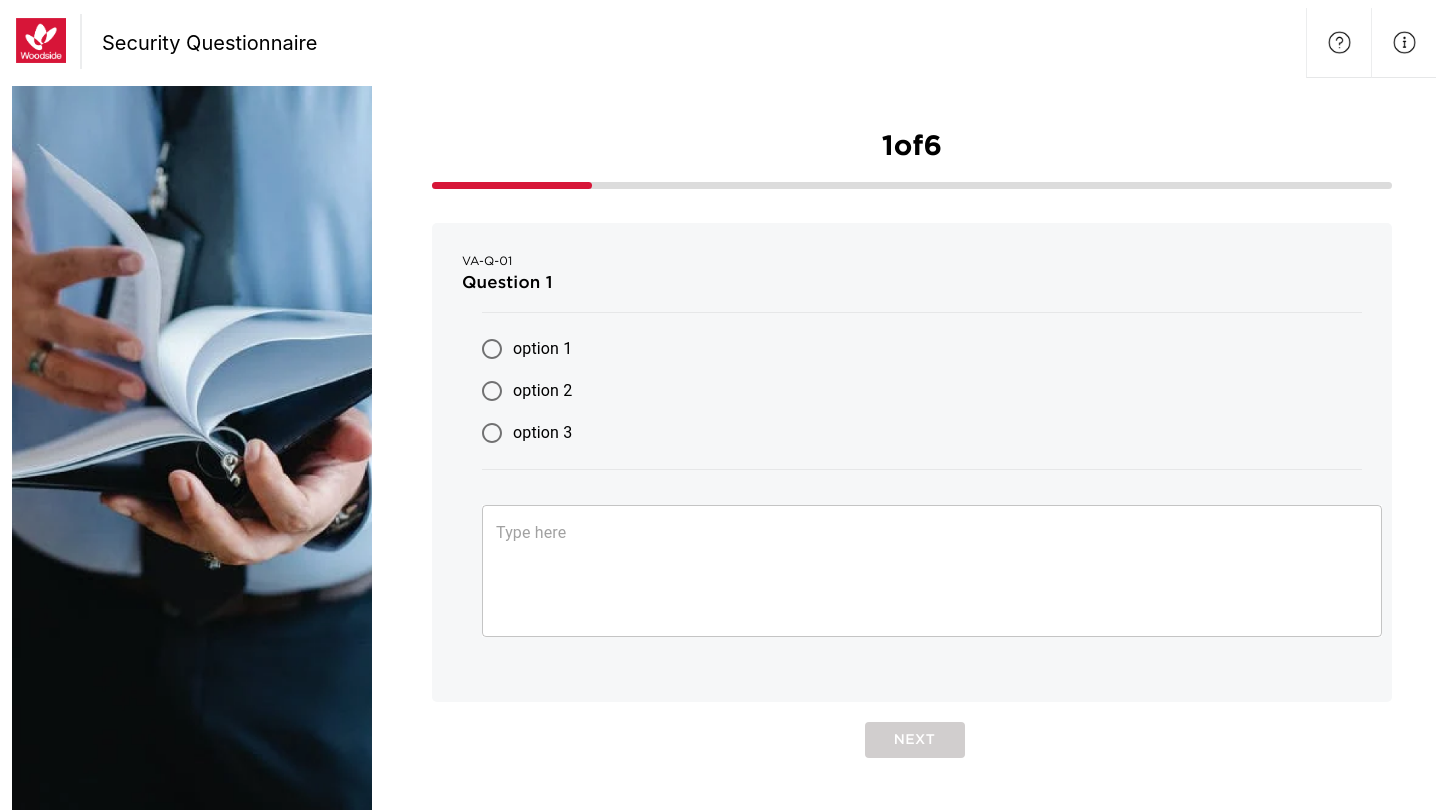
Test case: Security Questionnaire Page render › navigate through questions page
expect the text "Security Questionnaire" is shown: met, box x1=102 y1=31 x2=317 y2=55
expect the text "VA-Q-01" is shown: met, box x1=462 y1=256 x2=512 y2=267
Click the text "option 1" at coordinates (543, 348), box x1=513 y1=336 x2=572 y2=360
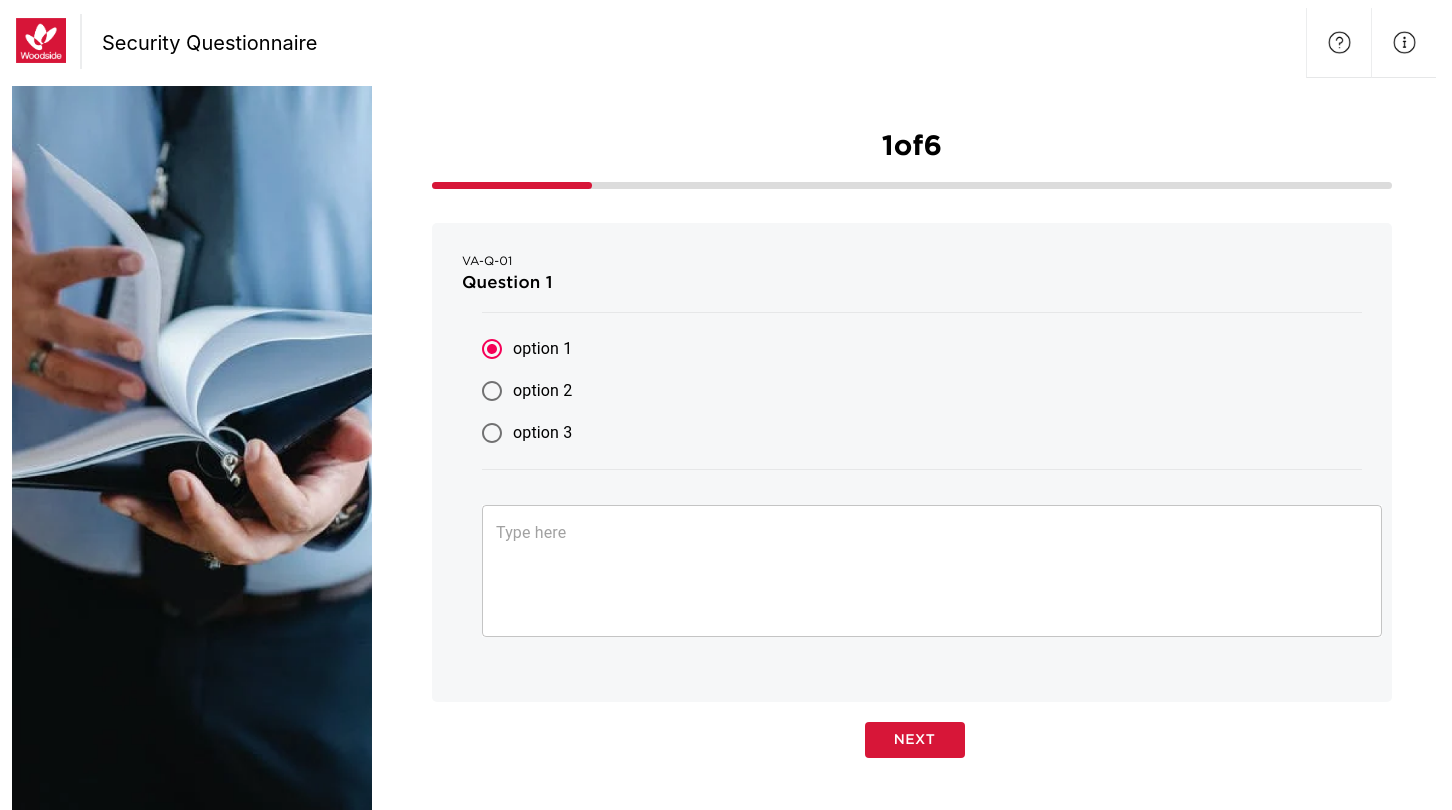
Click the button with test id "btn-next" at coordinates (914, 740), box x1=864 y1=722 x2=964 y2=758
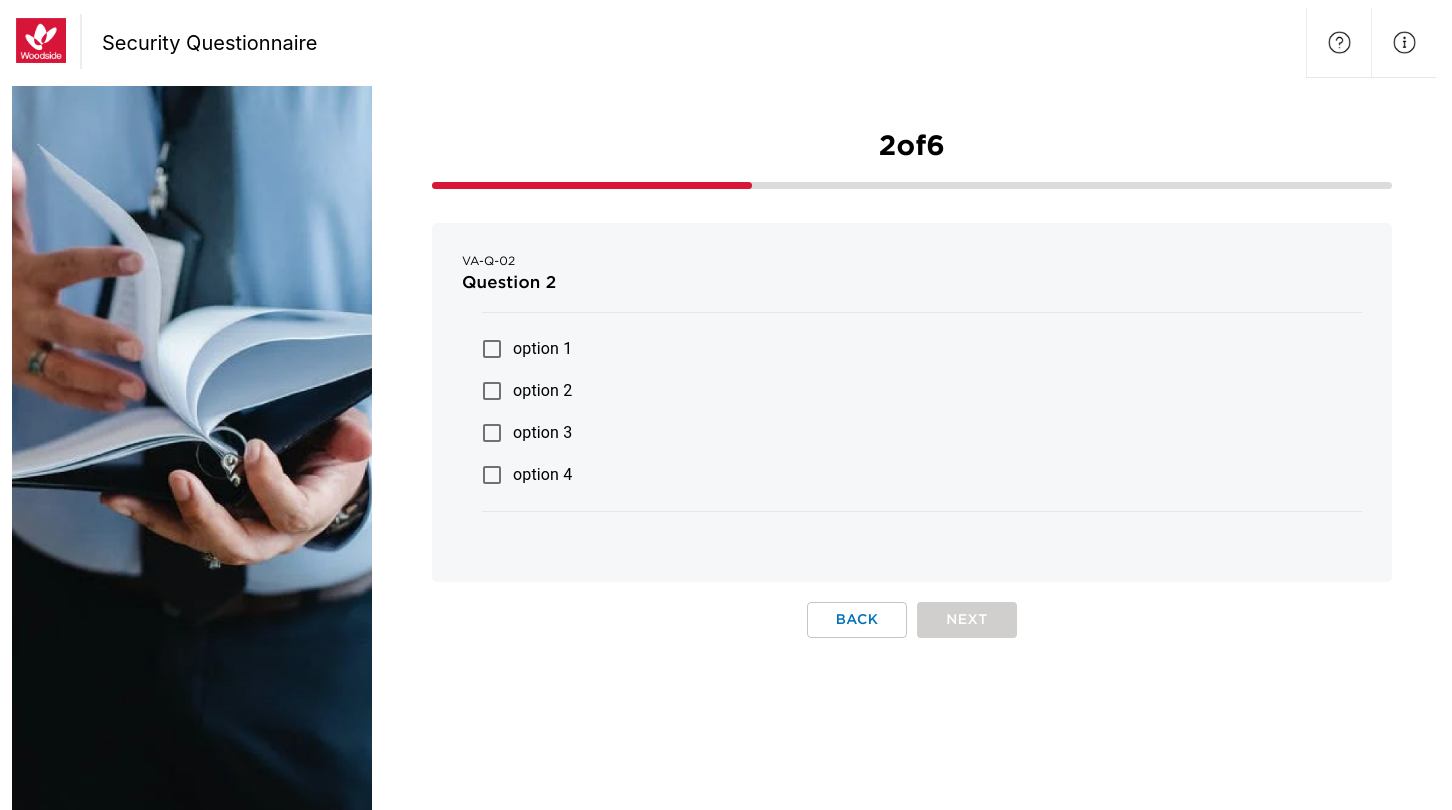
expect the text "VA-Q-02" is shown: met, box x1=462 y1=256 x2=515 y2=267
Click the text "option 1" at coordinates (543, 348), box x1=513 y1=336 x2=572 y2=360
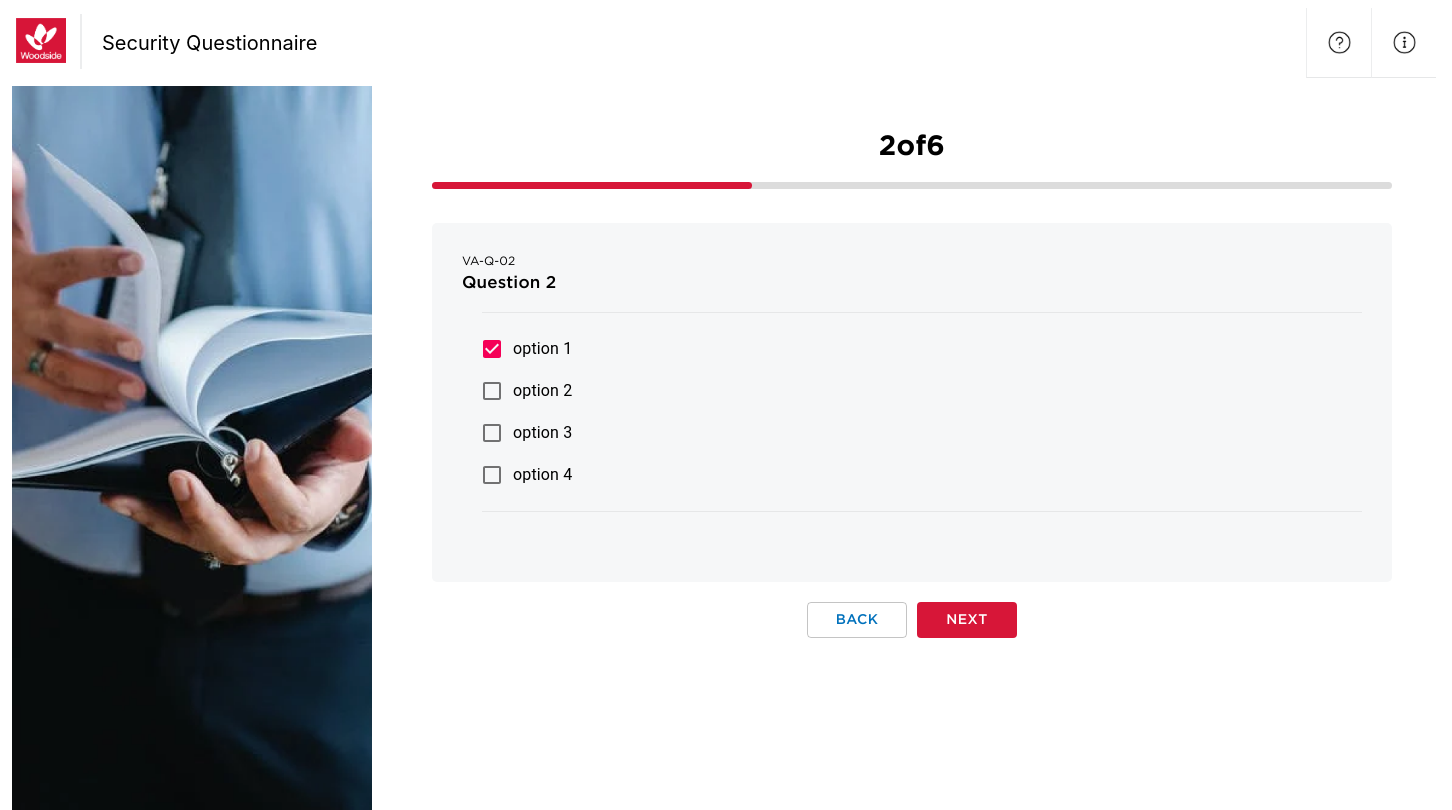
Click the button with test id "btn-next" at coordinates (967, 620), box x1=917 y1=602 x2=1017 y2=638
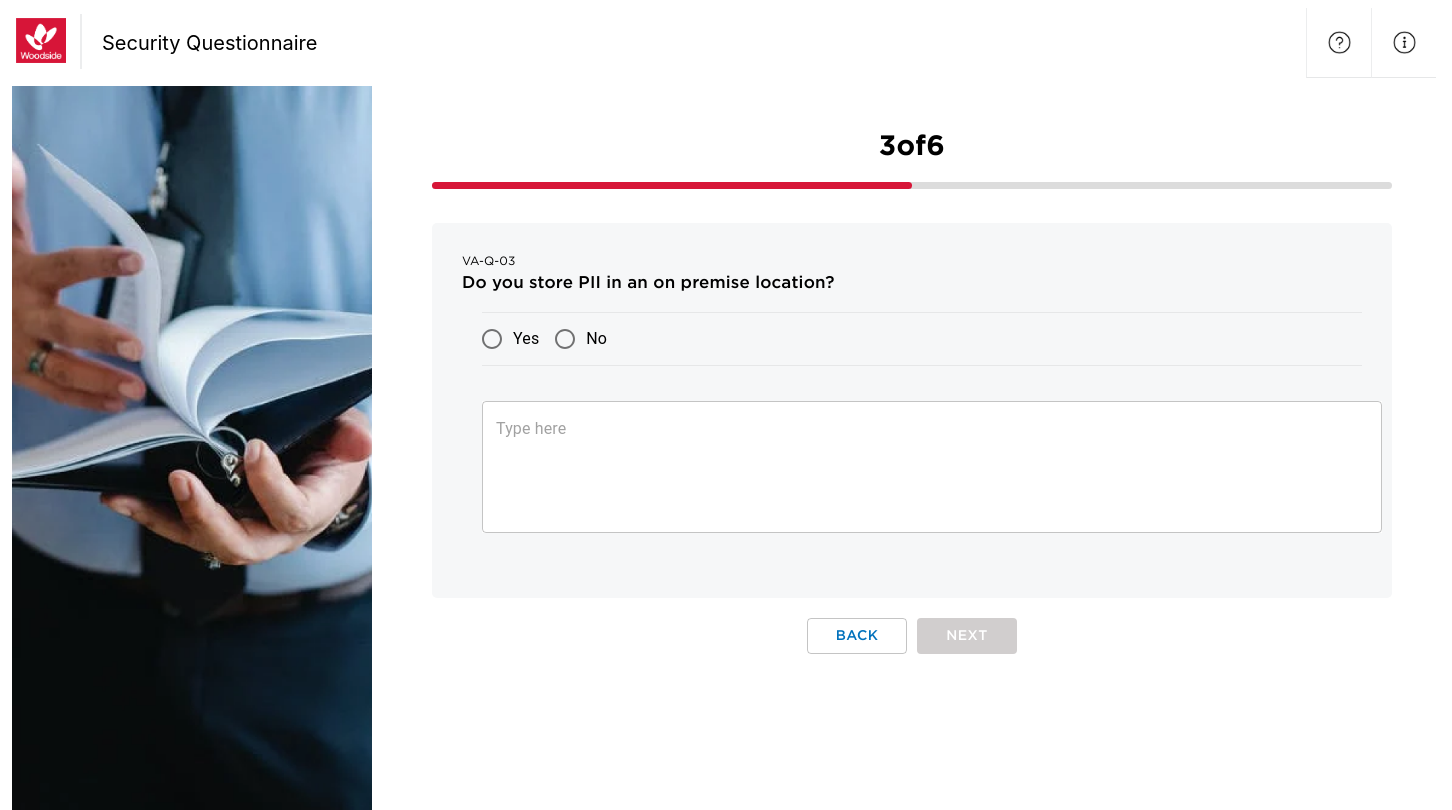
expect the text "VA-Q-03" is shown: met, box x1=462 y1=256 x2=515 y2=267
Click the text "Yes" at coordinates (526, 338), box x1=513 y1=326 x2=539 y2=350
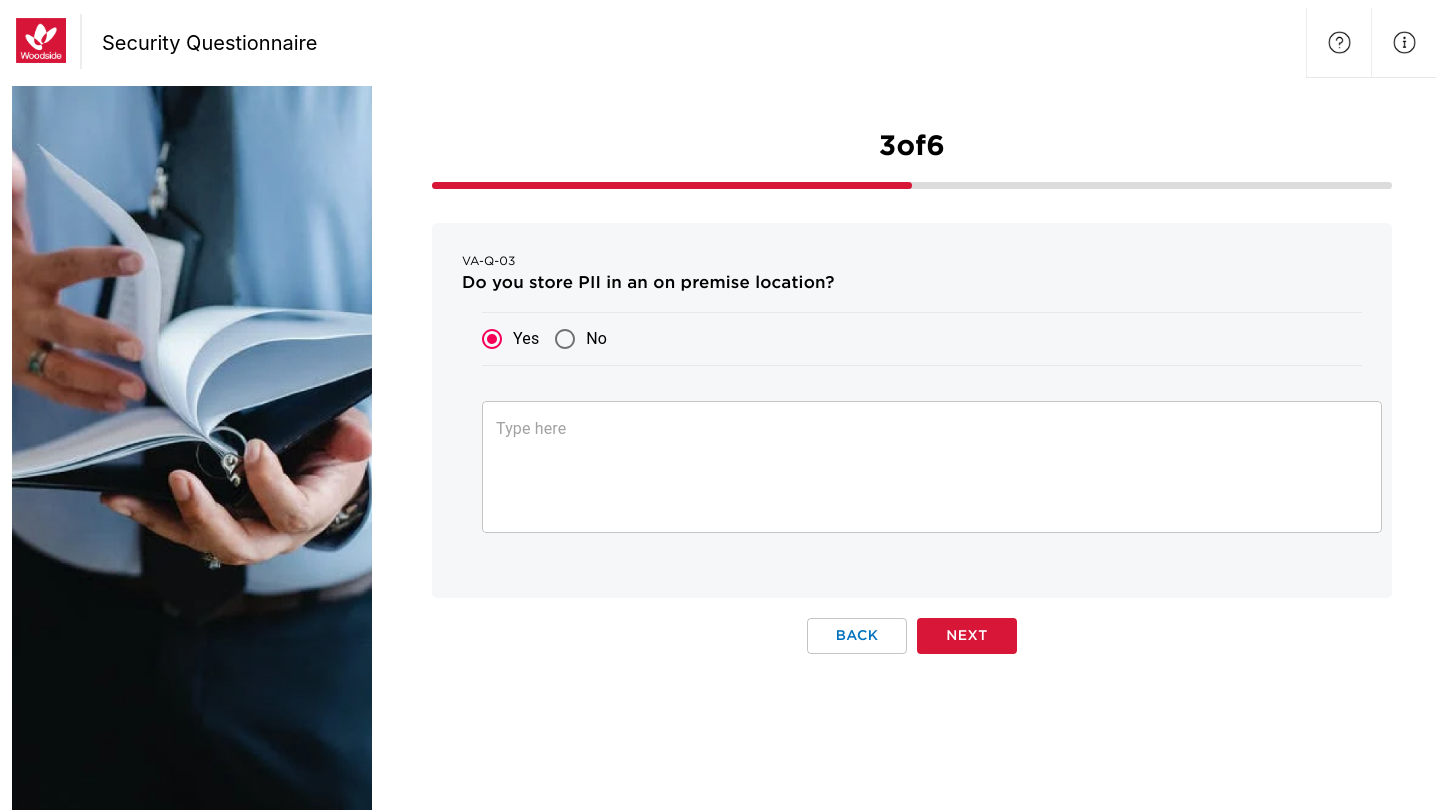
Click the button with test id "btn-next" at coordinates (967, 636), box x1=917 y1=618 x2=1017 y2=654
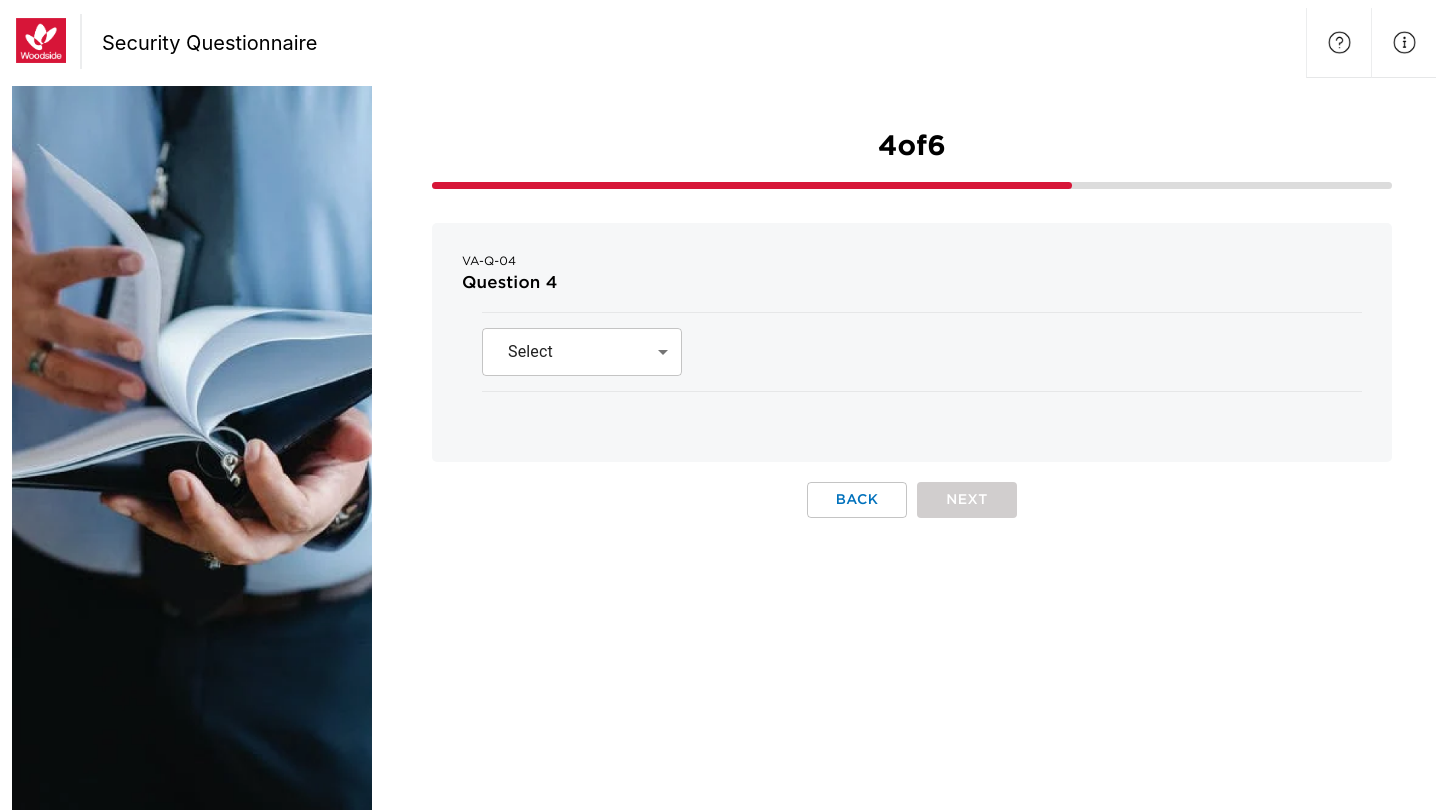
expect the text "VA-Q-04" is shown: met, box x1=462 y1=256 x2=516 y2=267
